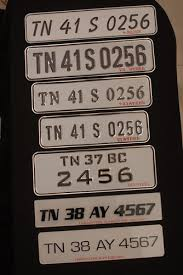T: (31, 51, 44, 75), (29, 19, 41, 38), (37, 90, 49, 108), (43, 238, 54, 257), (43, 124, 54, 141), (58, 153, 70, 167)
